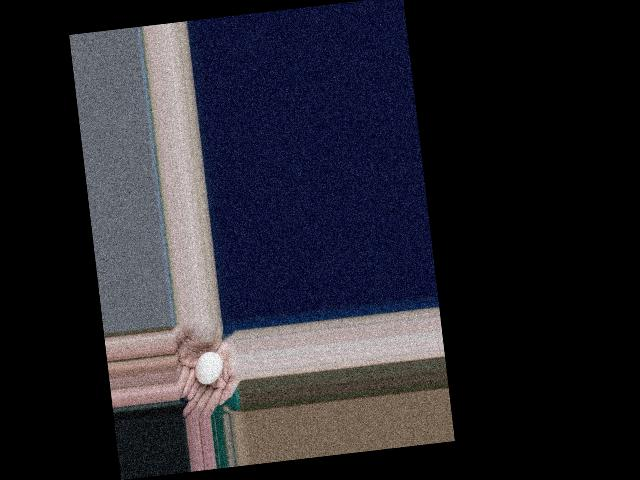egg: (193, 351, 224, 385)
